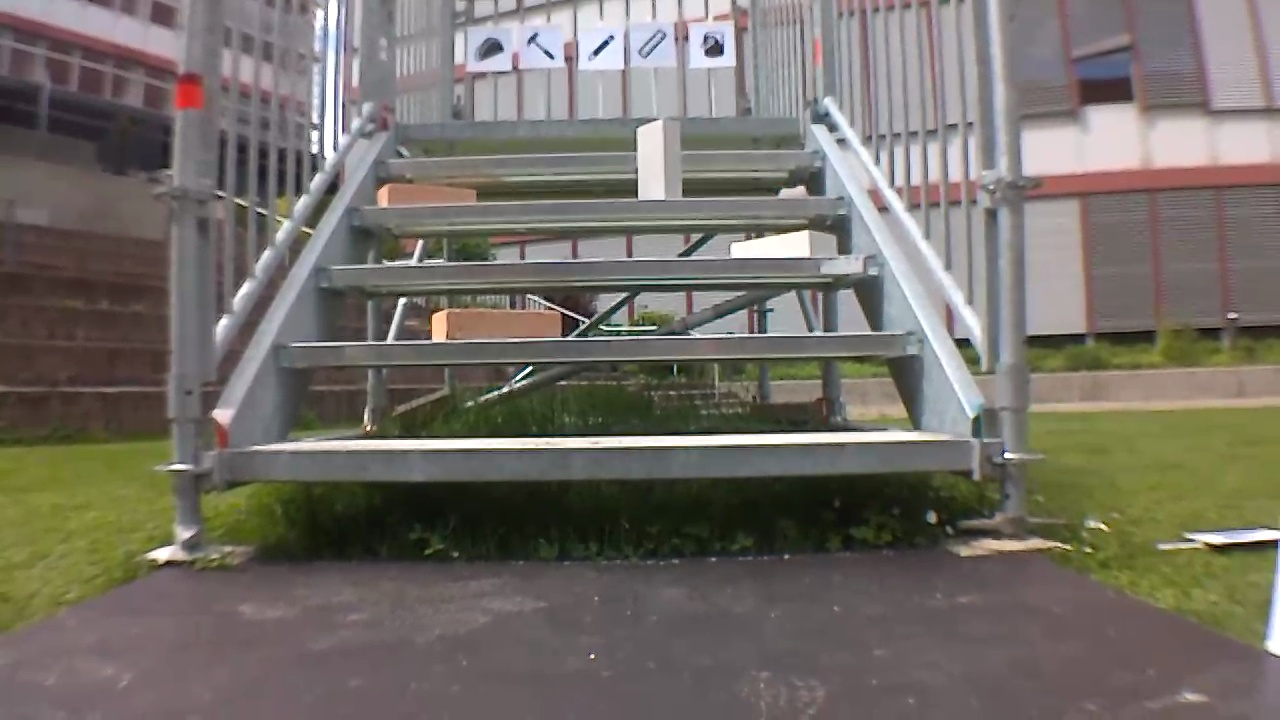brick: (430, 309, 560, 339), (636, 116, 682, 199), (729, 229, 833, 258), (375, 185, 474, 205)
bucket: (697, 26, 727, 60)
edge: (219, 436, 971, 480), (278, 330, 918, 362), (317, 256, 885, 279), (351, 196, 854, 218), (376, 150, 825, 174), (396, 115, 799, 136)
hammer: (521, 30, 558, 62)
pencil: (586, 28, 618, 65)
ruler: (634, 27, 672, 60)
stairs: (142, 1, 1064, 556)
steps: (210, 111, 979, 494)
taco: (472, 33, 507, 63)
